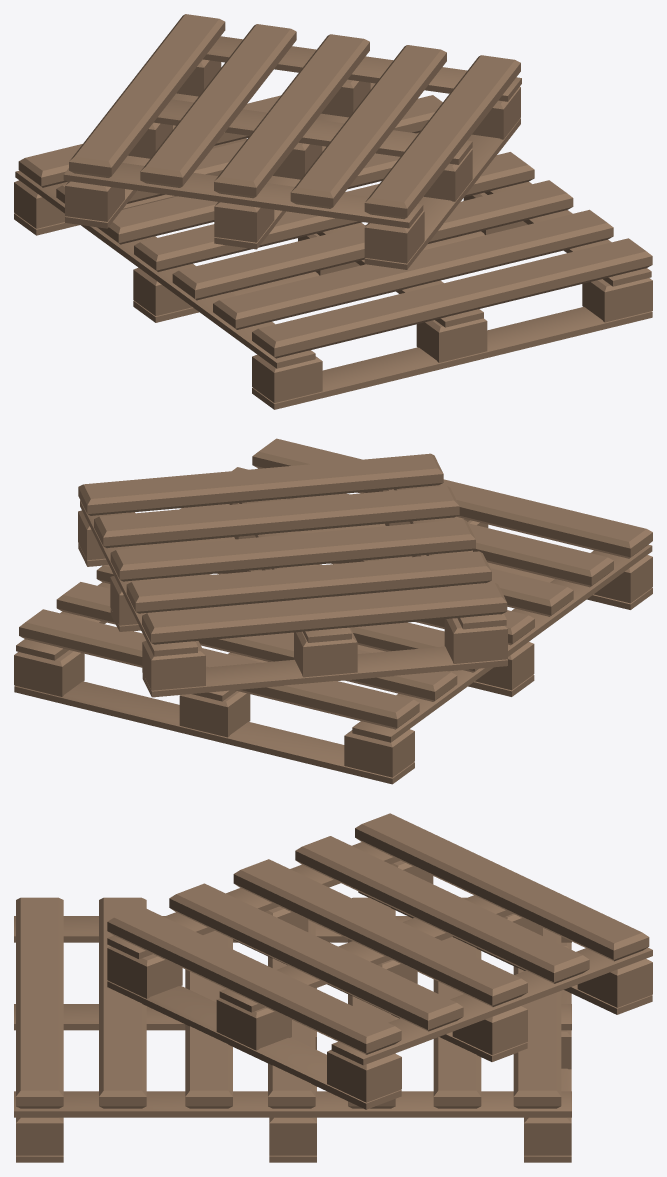
Rendered from props_53.glb.
3 renders of one model, top to bottom at view 1: azimuth 30°, elevation 25°; view 2: azimuth 150°, elevation 25°; view 3: azimuth 270°, elevation 25°, orthographic. The views are drawn at different scales.
Visible parts, largest first — view 1: props_53; view 2: props_53; view 3: props_53.
Part boxes in pixels (left/top/right/bottom): props_53: left=14, top=14, right=652, bottom=409; props_53: left=14, top=438, right=652, bottom=784; props_53: left=14, top=813, right=652, bottom=1162.
Bounding box in the file's own units: 2.81 × 0.8046 × 3.29.
Materials: 1 (1 with a texture image).
